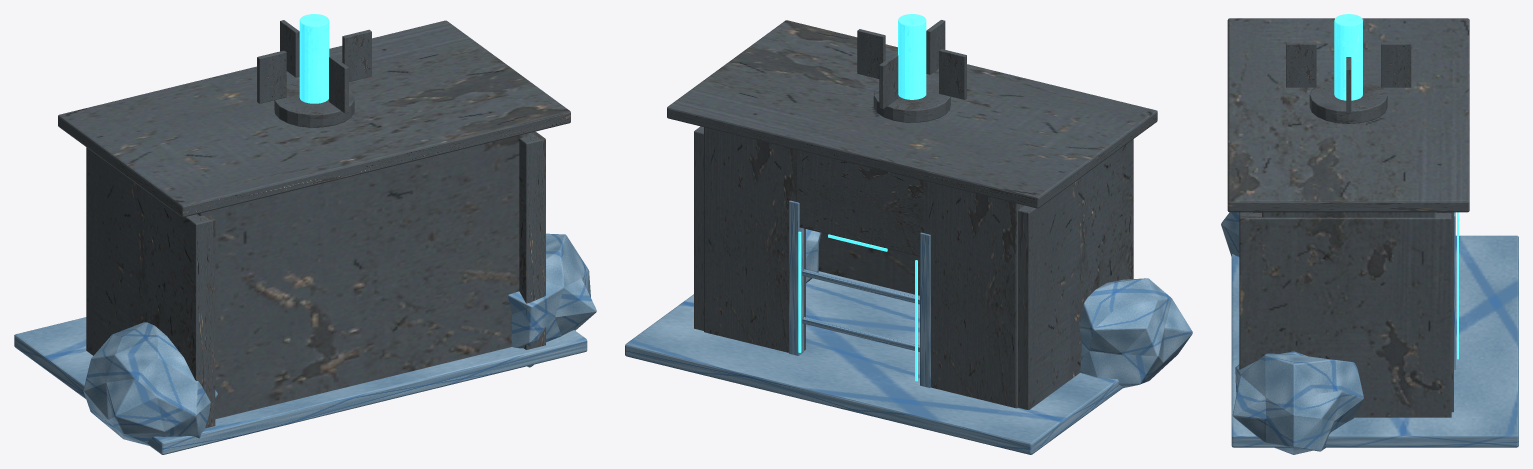
File: sentinel_archive.glb
3 views of the same model, side by side, from view 1: azimuth 30°, elevation 25°; view 2: azimuth 150°, elevation 25°; view 3: azimuth 270°, elevation 25° (orthographic). The views are drawn at different scales.
Visible parts, largest first — view 1: ArchiveRearShell, ArchiveRoof, ArchiveButtress_-5.9, ArchiveFoundation, ArchiveIceClampWest, ArchiveIceClampEast, ArchiveButtress_5.9, ArchiveReceiverCore, ArchiveReceiverBase, ReceiverVane_4.71238898038469, ReceiverVane_1.5707963267948966, ReceiverVane_0 (+1 smaller); view 2: ArchiveRoof, ArchiveFoundation, ArchiveButtress_-5.9, ArchiveFrontWing_-4.08, ArchiveFrontWing_4.08, ArchiveFrontLintel, ArchiveIceClampWest, ArchiveRearShell, ArchiveReceiverCore, ArchiveButtress_5.9, DoorPylon_2.45, ArchiveReceiverBase (+8 smaller); view 3: ArchiveRoof, ArchiveButtress_5.9, ArchiveFoundation, ArchiveIceClampEast, ArchiveReceiverBase, ArchiveReceiverCore, ReceiverVane_0, ReceiverVane_3.141592653589793, ArchiveSideShell_5.82, ArchiveIceClampWest, ArchiveFrontWing_4.08, ReceiverVane_1.5707963267948966 (+1 smaller).
Part boxes in pixels (x1,y1,x2,y2): ArchiveRearShell: (197, 133, 527, 419); ArchiveRoof: (58, 20, 570, 217); ArchiveButtress_-5.9: (86, 147, 215, 428); ArchiveFoundation: (14, 317, 587, 454); ArchiveIceClampWest: (83, 322, 217, 445); ArchiveIceClampEast: (508, 233, 596, 367); ArchiveButtress_5.9: (519, 131, 545, 349); ArchiveReceiverCore: (299, 14, 329, 103); ArchiveReceiverBase: (274, 82, 354, 127); ReceiverVane_4.71238898038469: (257, 50, 286, 103); ReceiverVane_1.5707963267948966: (342, 29, 371, 81); ReceiverVane_0: (329, 56, 348, 113); ArchiveRoof: (667, 20, 1157, 208); ArchiveFoundation: (625, 271, 1123, 454); ArchiveButtress_-5.9: (1018, 139, 1133, 409); ArchiveFrontWing_-4.08: (923, 181, 1024, 408); ArchiveFrontWing_4.08: (704, 127, 805, 352); ArchiveFrontLintel: (792, 149, 927, 256); ArchiveIceClampWest: (1079, 278, 1192, 388); ArchiveRearShell: (818, 233, 919, 295); ArchiveReceiverCore: (898, 14, 926, 99); ArchiveButtress_5.9: (694, 126, 703, 330); DoorPylon_2.45: (789, 200, 803, 355); ArchiveReceiverBase: (873, 79, 950, 122); ArchiveRoof: (1227, 18, 1469, 212); ArchiveButtress_5.9: (1239, 212, 1451, 417); ArchiveFoundation: (1231, 235, 1518, 447); ArchiveIceClampEast: (1232, 351, 1363, 454); ArchiveReceiverBase: (1309, 80, 1387, 123); ArchiveReceiverCore: (1334, 14, 1362, 100); ReceiverVane_0: (1286, 42, 1316, 87); ReceiverVane_3.141592653589793: (1381, 42, 1411, 87); ArchiveSideShell_5.82: (1262, 212, 1435, 217); ArchiveIceClampWest: (1221, 212, 1239, 256); ArchiveFrontWing_4.08: (1437, 212, 1453, 412); ReceiverVane_1.5707963267948966: (1346, 57, 1351, 113).
Size of the model in its own units: 17.67 by 12.3 by 9.54.
5 materials, 5 textured.
